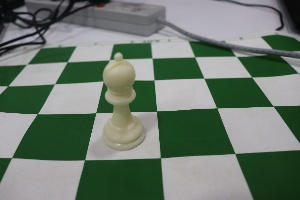white_bishop: (89, 42, 151, 157)
